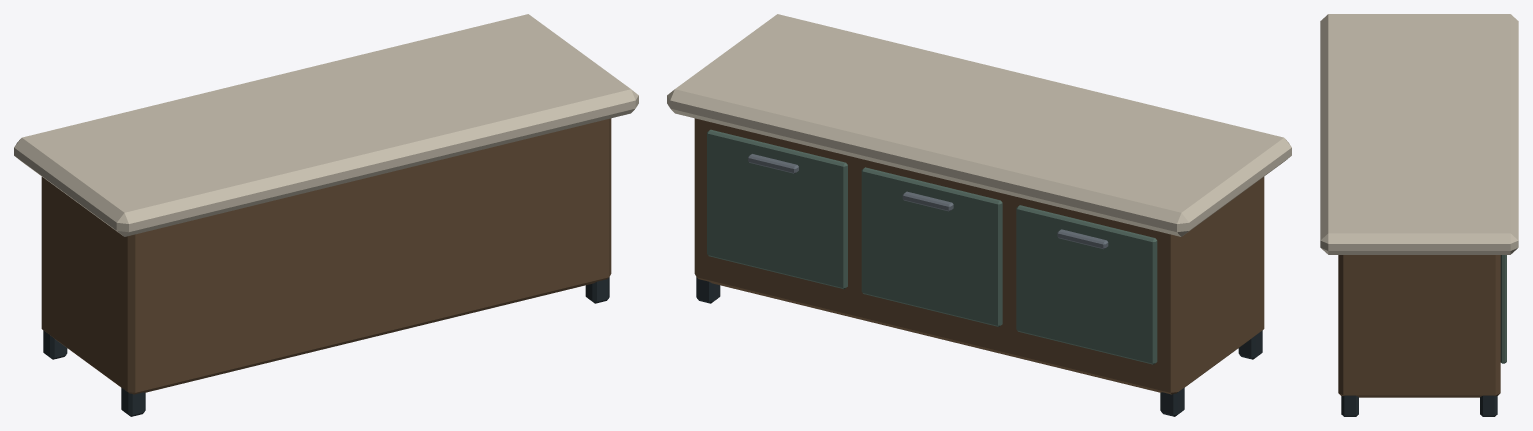
Rendered from counter-BWziBZcI.glb.
3 views of the same model, side by side, from view 1: azimuth 30°, elevation 25°; view 2: azimuth 150°, elevation 25°; view 3: azimuth 270°, elevation 25° (orthographic). The views are drawn at different scales.
Visible parts, largest first — view 1: tapered foot; view 2: tapered foot; view 3: tapered foot.
Part boxes in pixels (x1,y1,x2,y2): tapered foot: [14, 14, 638, 416]; tapered foot: [667, 14, 1291, 416]; tapered foot: [1320, 14, 1518, 416].
Size of the model in its own units: 2.7 by 1.06 by 1.
